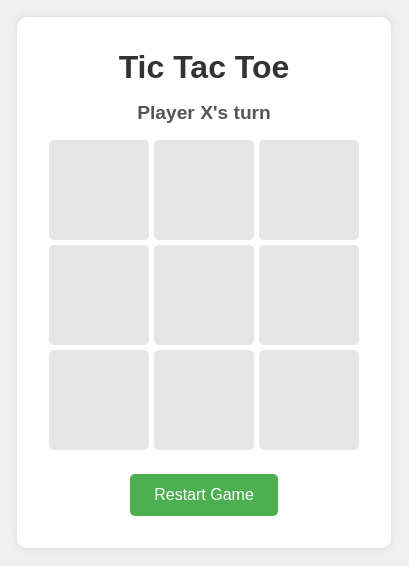
Test: Tic Tac Toe Game › horizontal win scenario - top row
This screenshot has width=409, height=566.
X plays top-left
Click the element with test id "cell-0".
click(99, 190)  # box [49,140,149,240]
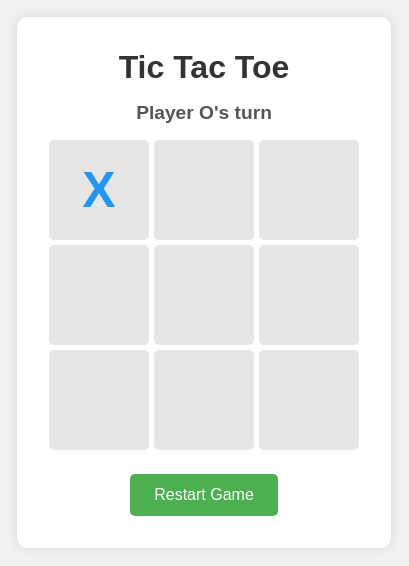
O plays middle-left
Click the element with test id "cell-3".
click(99, 294)  # box [49,244,149,344]
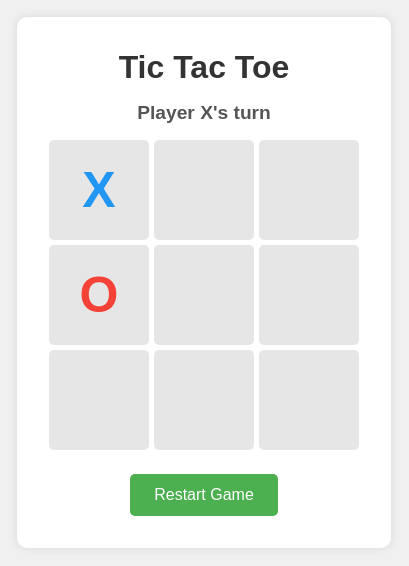
X plays top-middle
Click the element with test id "cell-1".
click(204, 190)  # box [154,140,254,240]
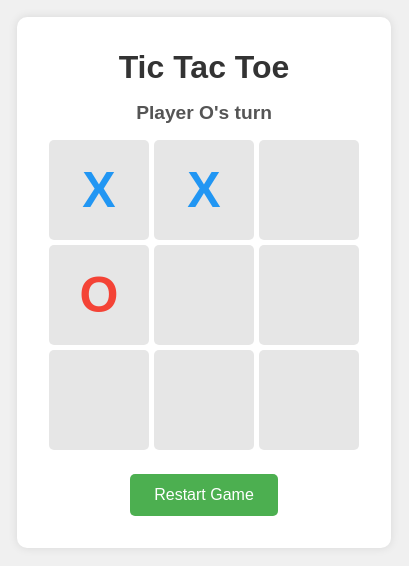
O plays middle-middle
Click the element with test id "cell-4".
click(204, 294)  # box [154,244,254,344]
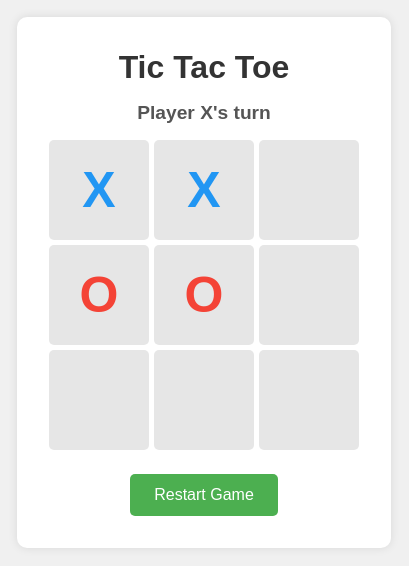
X plays top-right - should win
Click the element with test id "cell-2".
click(309, 190)  # box [259,140,359,240]
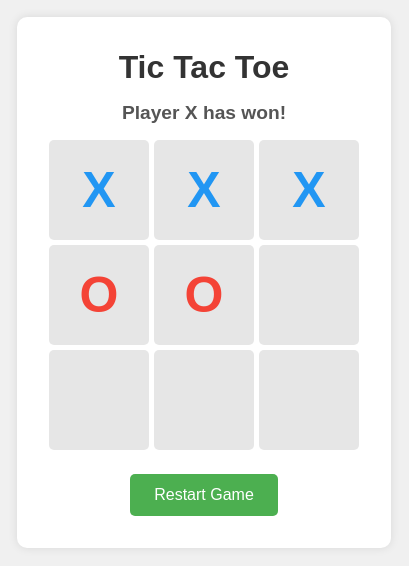
Now the text with test id "status" reads "Player X has won!", box [122,102,286,122]
